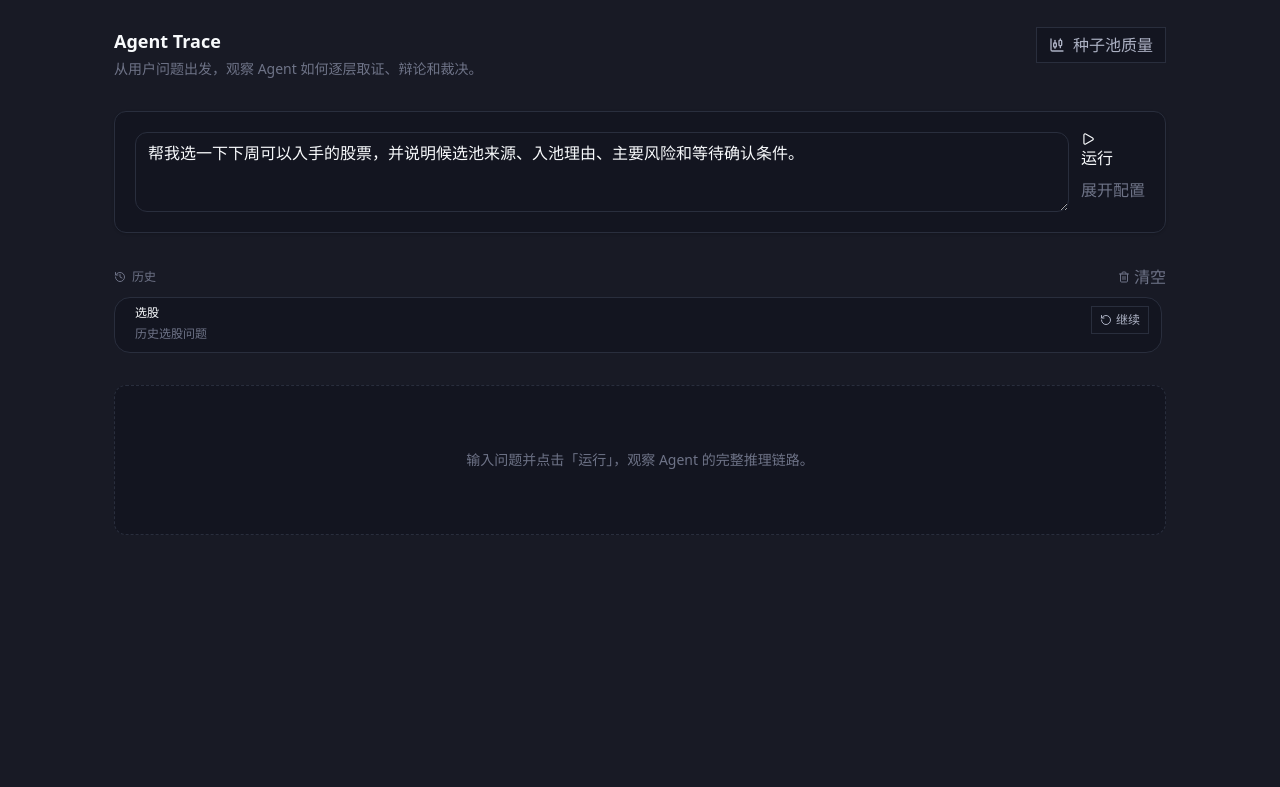
Test: AgentTracePage › continues a local history trace from the history row button
Expected: the text "历史" is shown, [114, 269, 156, 285]
Click the button "继续": point(1120, 320) [1091, 306, 1149, 334]
(page scrolled)
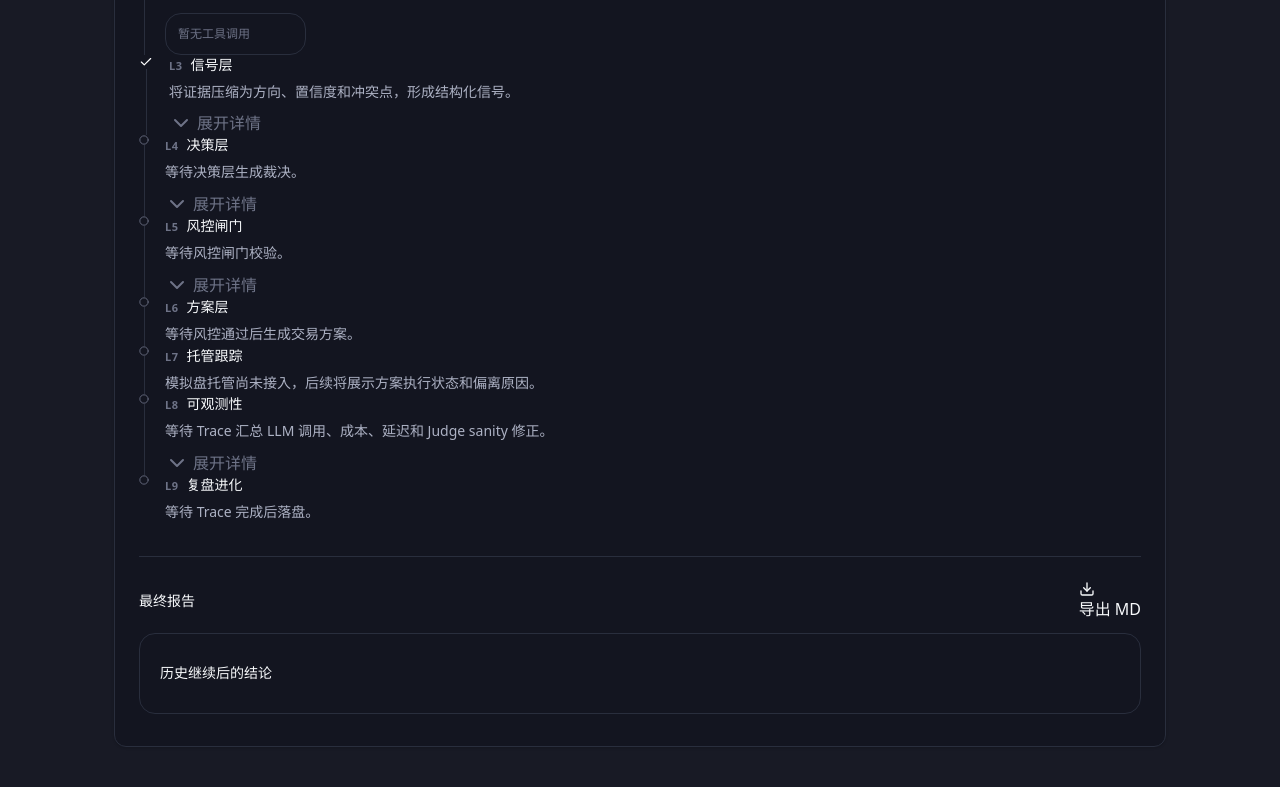
Result: the text "历史继续后的结论" is shown at [160, 663, 272, 682]
